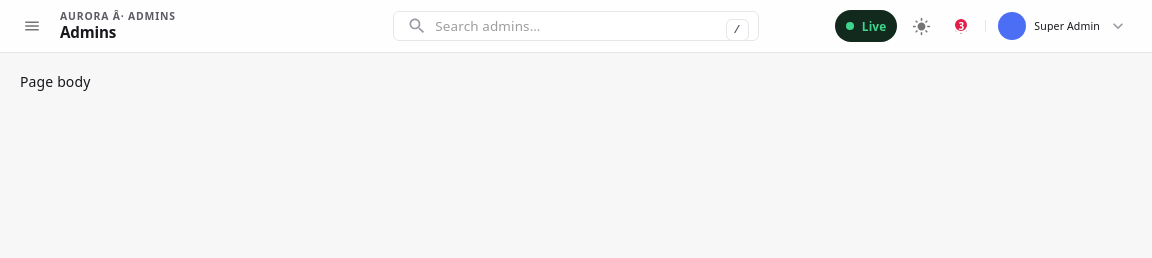
AppShell layout › profile menu exposes security settings and both sign-out paths
This screenshot has width=1152, height=258.
Click the button with aria-label "Account menu for". click: (1065, 26)
box: [994, 8, 1136, 44]
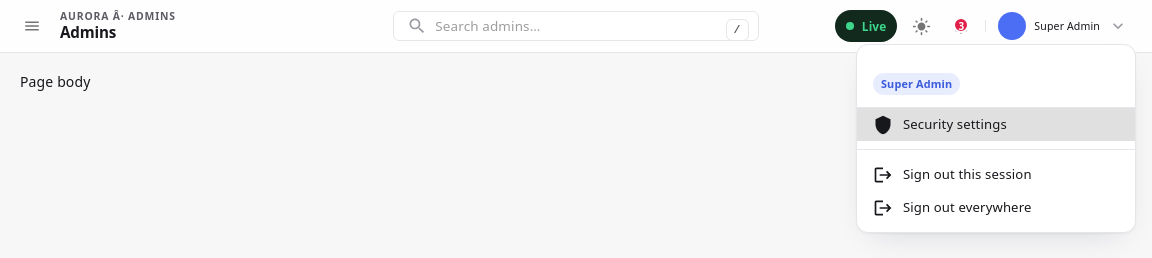
Expected: the menu item "Sign out this session" is shown, [873, 164, 1032, 184]
Expected: the menu item "Sign out everywhere" is shown, [873, 198, 1032, 218]
